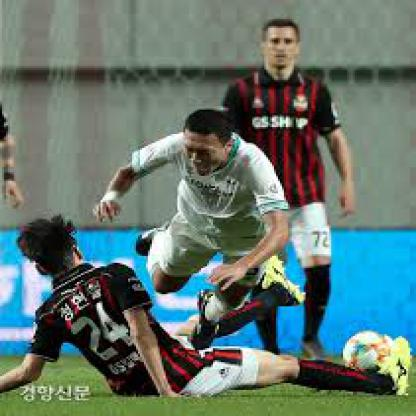Fall_Down: (88, 107, 293, 350)
